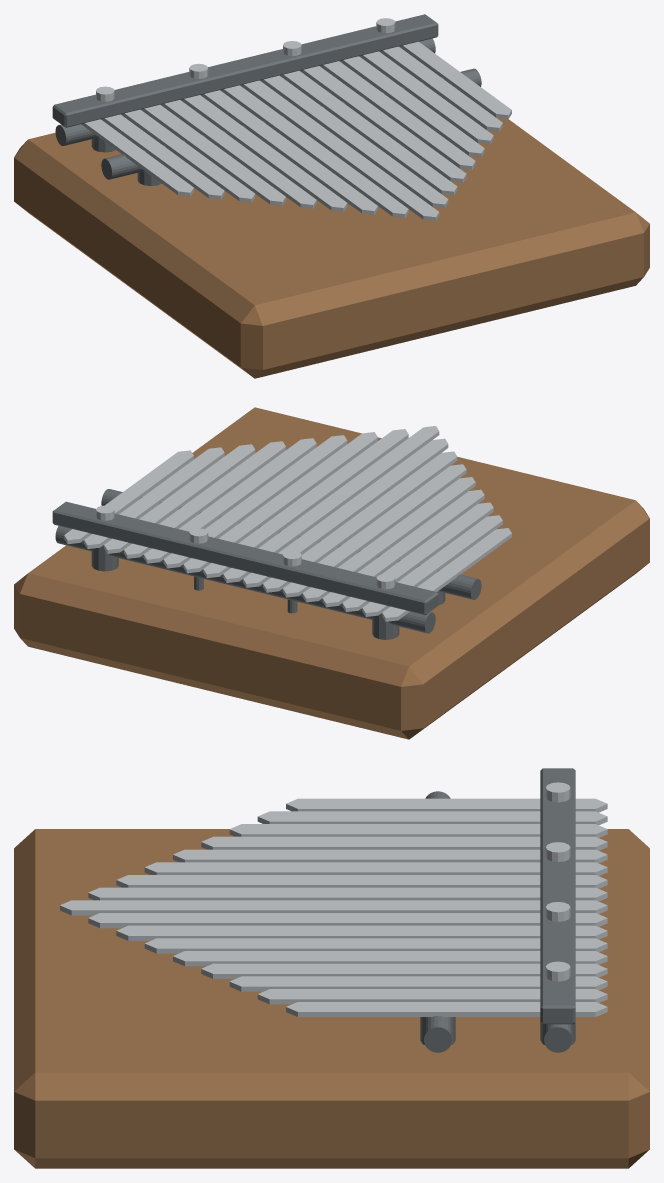
File: full.glb
3 renders of one model, top to bottom at view 1: azimuth 30°, elevation 25°; view 2: azimuth 150°, elevation 25°; view 3: azimuth 270°, elevation 25°, orthographic. The views are drawn at different scales.
Parts seen in each view (by area): view 1: Solid rounded wood board, Upper transverse clamping bar, Rounded spring tine 9, Rounded spring tine 8, Rounded spring tine 10, Rounded spring tine 11, Rounded spring tine 7, Rounded spring tine 6, Rounded spring tine 12, Rounded spring tine 5, Rounded spring tine 13, Rounded spring tine 14 (+9 smaller); view 2: Solid rounded wood board, Upper transverse clamping bar, Rounded spring tine 9, Rounded spring tine 10, Rounded spring tine 8, Rounded spring tine 11, Rounded spring tine 7, Rounded spring tine 6, Rounded spring tine 12, Rounded spring tine 5, Rounded spring tine 13, Rounded spring tine 14 (+11 smaller); view 3: Solid rounded wood board, Upper transverse clamping bar, Rounded spring tine 8, Rounded spring tine 9, Rounded spring tine 11, Rounded spring tine 10, Rounded spring tine 7, Rounded spring tine 12, Rounded spring tine 5, Rounded spring tine 6, Rounded spring tine 13, Rounded spring tine 14 (+9 smaller).
Boxes of the visible parts, <box> form: Solid rounded wood board: <box>14,117,649,378</box>; Upper transverse clamping bar: <box>52,14,438,127</box>; Rounded spring tine 9: <box>240,80,439,220</box>; Rounded spring tine 8: <box>220,85,408,217</box>; Rounded spring tine 10: <box>260,75,448,208</box>; Rounded spring tine 11: <box>280,70,457,195</box>; Rounded spring tine 7: <box>200,90,377,214</box>; Rounded spring tine 6: <box>181,95,347,211</box>; Rounded spring tine 12: <box>300,66,466,182</box>; Rounded spring tine 5: <box>161,100,316,208</box>; Rounded spring tine 13: <box>320,61,475,169</box>; Rounded spring tine 14: <box>339,56,484,157</box>; Solid rounded wood board: <box>14,407,649,739</box>; Upper transverse clamping bar: <box>52,501,438,614</box>; Rounded spring tine 9: <box>223,426,439,582</box>; Rounded spring tine 10: <box>203,429,408,577</box>; Rounded spring tine 8: <box>243,438,448,587</box>; Rounded spring tine 11: <box>183,432,377,573</box>; Rounded spring tine 7: <box>263,451,457,592</box>; Rounded spring tine 6: <box>283,464,466,597</box>; Rounded spring tine 12: <box>163,435,347,568</box>; Rounded spring tine 5: <box>302,477,475,602</box>; Rounded spring tine 13: <box>143,438,316,563</box>; Rounded spring tine 14: <box>124,441,285,558</box>; Solid rounded wood board: <box>14,829,649,1168</box>; Upper transverse clamping bar: <box>540,768,575,1024</box>; Rounded spring tine 8: <box>88,887,607,901</box>; Rounded spring tine 9: <box>60,900,607,915</box>; Rounded spring tine 11: <box>116,925,607,940</box>; Rounded spring tine 10: <box>88,913,607,928</box>; Rounded spring tine 7: <box>116,875,607,888</box>; Rounded spring tine 12: <box>144,938,607,953</box>; Rounded spring tine 5: <box>173,849,607,863</box>; Rounded spring tine 6: <box>144,862,607,875</box>; Rounded spring tine 13: <box>173,951,607,966</box>; Rounded spring tine 14: <box>201,963,607,978</box>.
Bounding box in the file's own units: 0.175 × 0.053 × 0.18.
